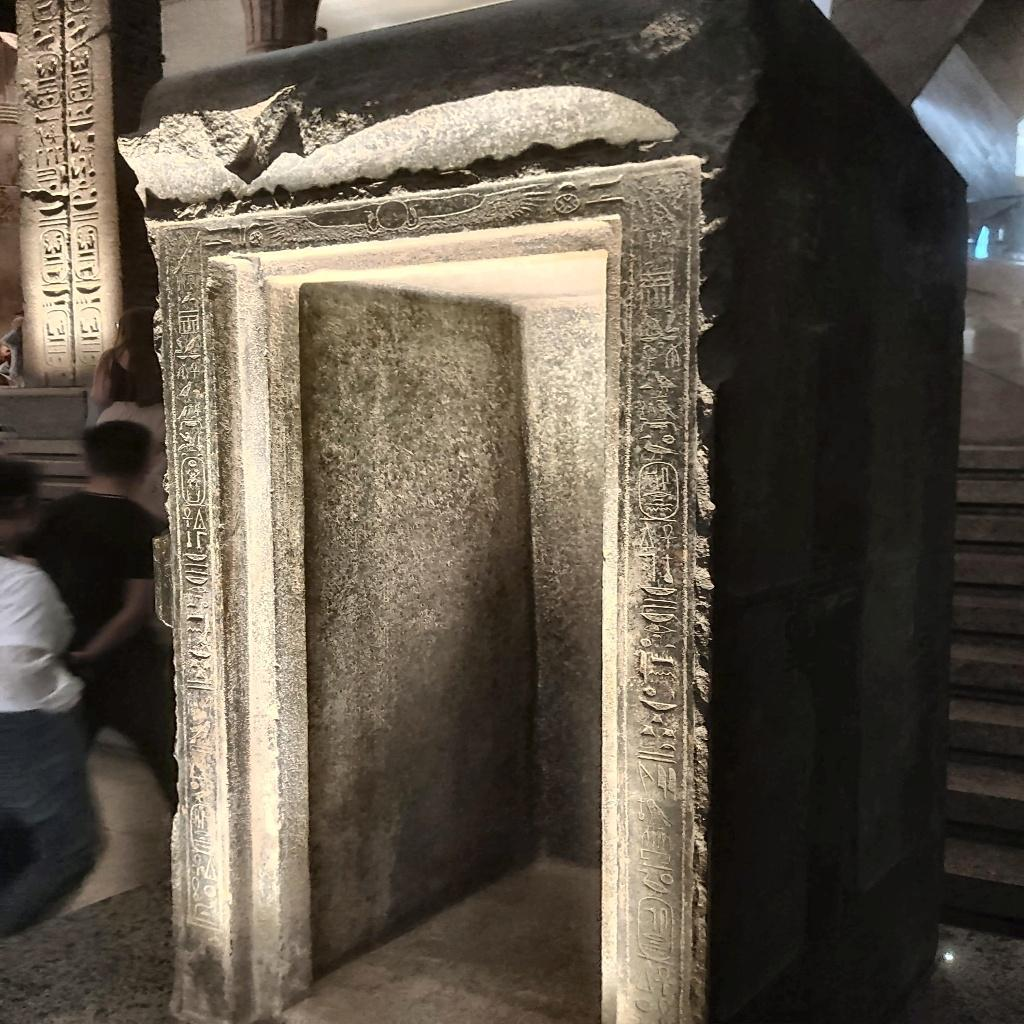Naos of Senwosert I: (157, 0, 978, 1016)
